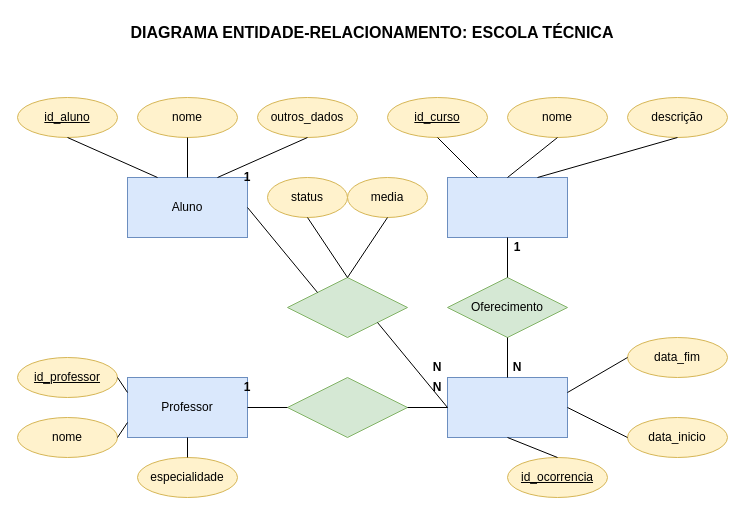
This 745x515 diagram has some shape labels left out. Each missing label, with the centre of its shape:
Curso: [507,207]
Matrícula: [347,307]
Ministra: [347,407]
Ocorrência de Curso: [507,407]
